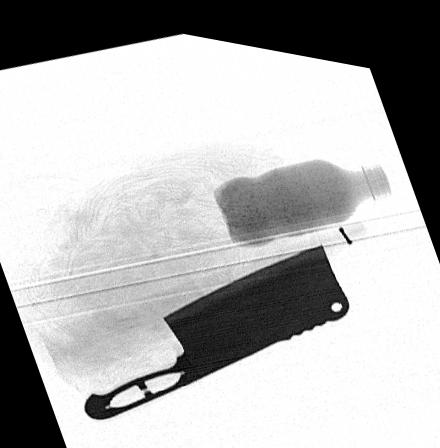Knife: (82, 231, 348, 415)
